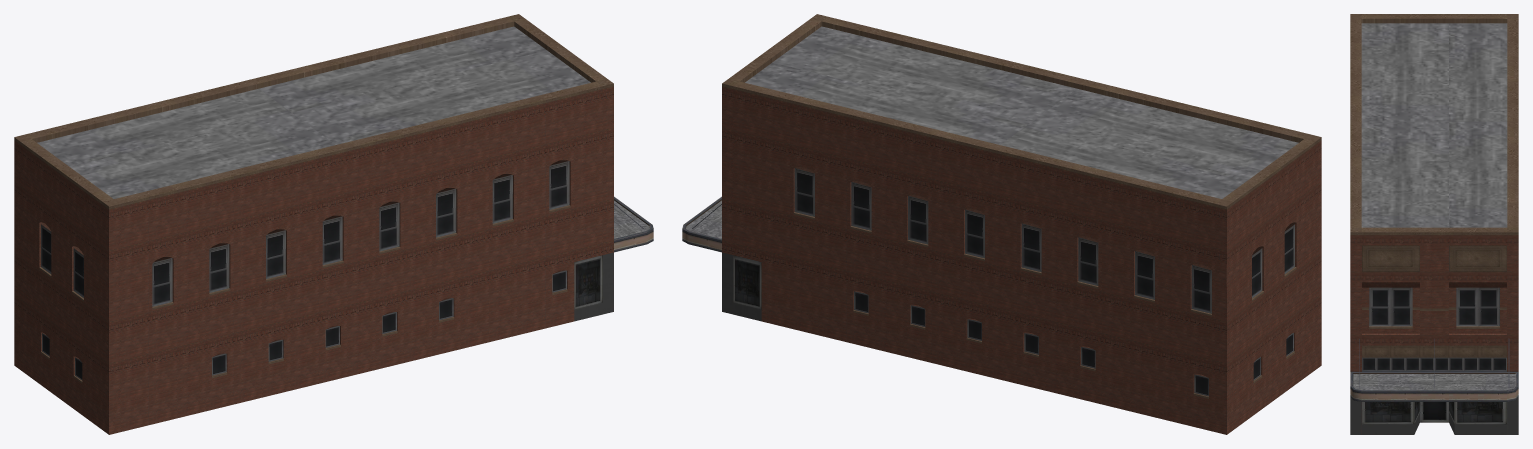
Rendered from brick-shop.walls-v1.lod1.glb.
The picture shows the model from 3 angles, left to right: view 1: azimuth 30°, elevation 25°; view 2: azimuth 150°, elevation 25°; view 3: azimuth 270°, elevation 25°; orthographic projection. The views are drawn at different scales.
Parts seen in each view (by area): view 1: Object_4; view 2: Object_4; view 3: Object_4.
Boxes of the visible parts, bbox=[...] form: Object_4: bbox=[14, 14, 653, 434]; Object_4: bbox=[682, 14, 1321, 434]; Object_4: bbox=[1350, 14, 1518, 434].
Bounding box in the file's own units: 24.23 × 9.61 × 7.24.
Materials: 1 (1 with a texture image).
